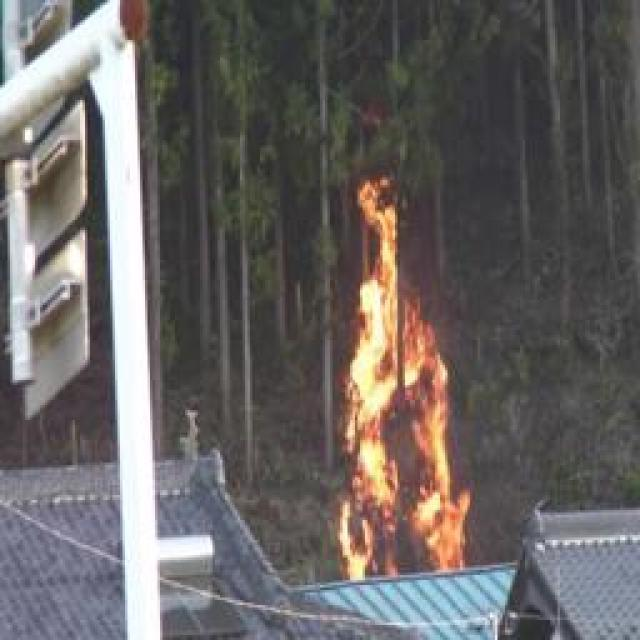Fire: (326, 183, 470, 586)
